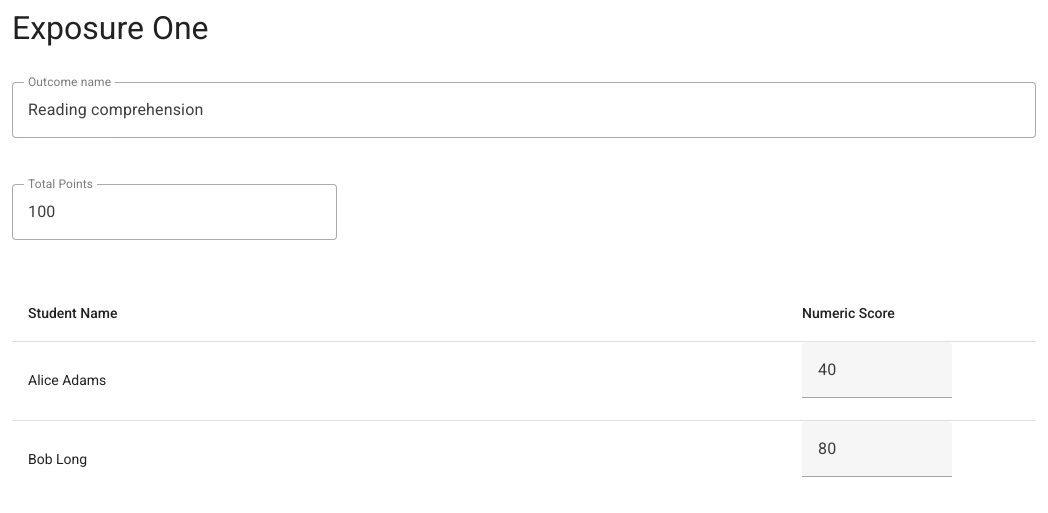
OutcomeScoring › checks every score again when the total points field loses focus
Replace the text in the number field named "outcomeMaxPoints" with "50": {"x": 175, "y": 212} [12,184,337,240]
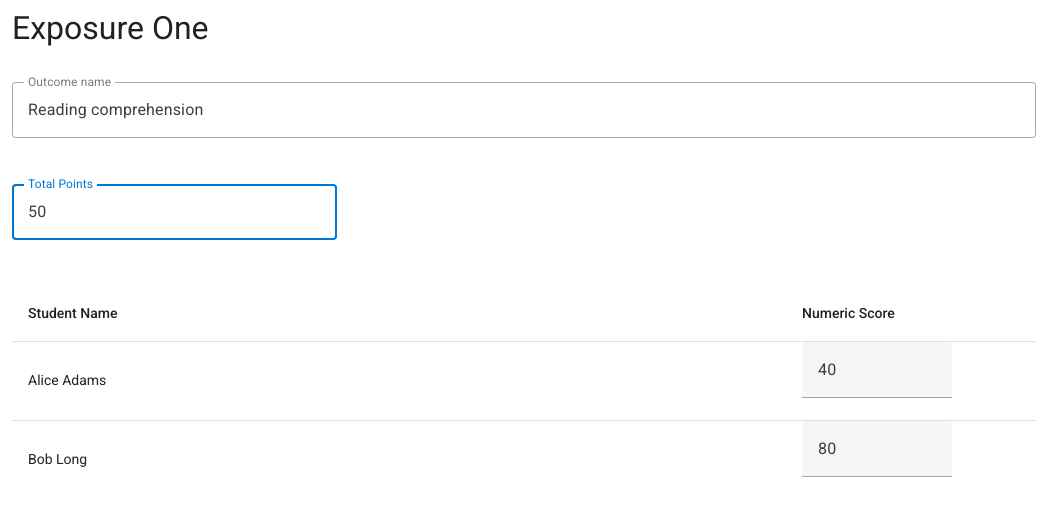
Leave the number field named "outcomeMaxPoints", box [12,184,337,240]
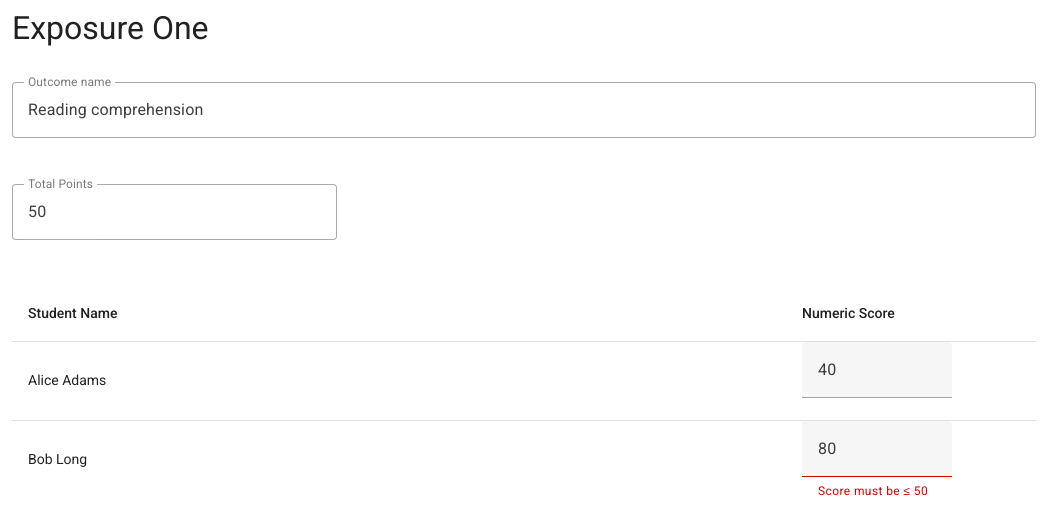
Replace the text in the number field named "outcomeMaxPoints" with "100": {"x": 175, "y": 212} [12,184,337,240]
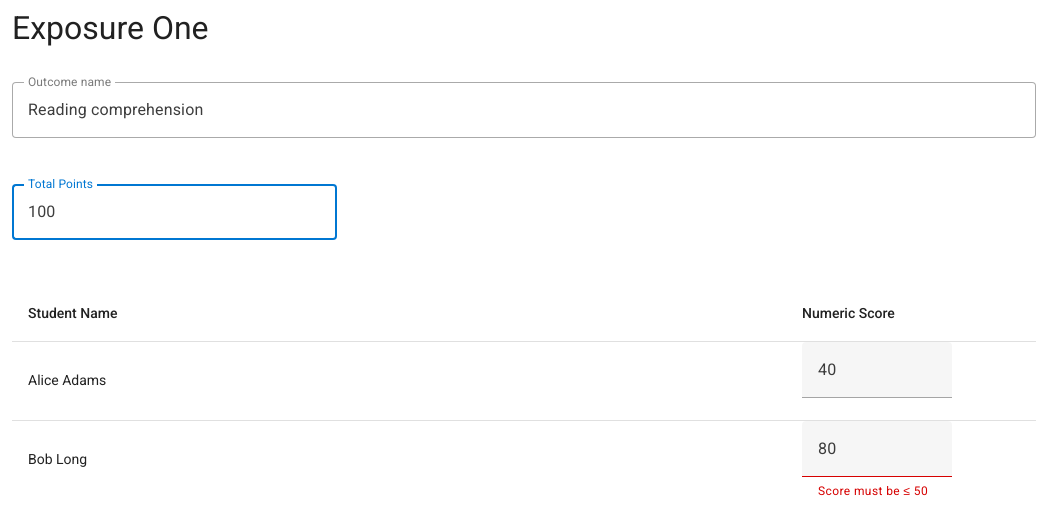
Leave the number field named "outcomeMaxPoints", box [12,184,337,240]
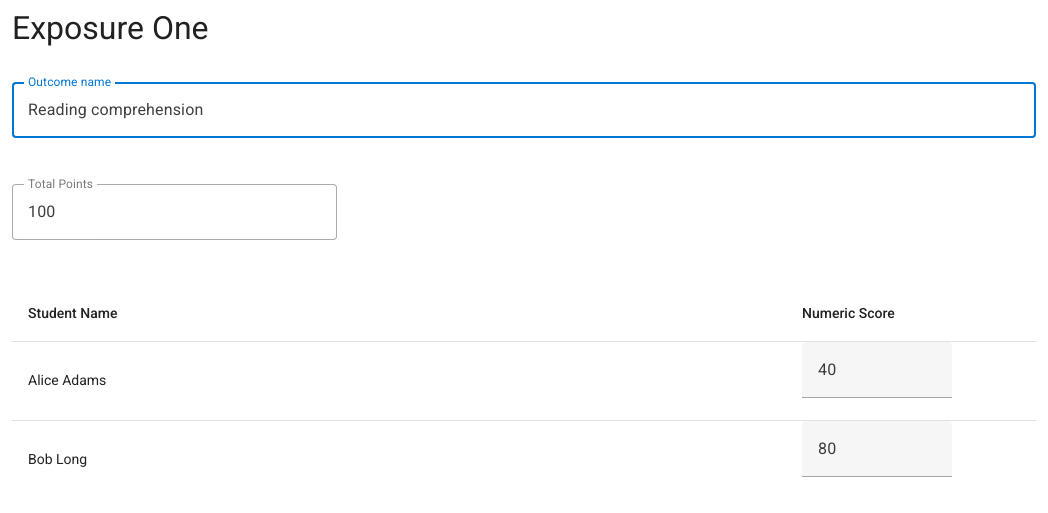
Check: the text "Score must be" is gone
